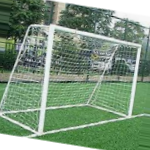goals: (1, 22, 142, 134)
